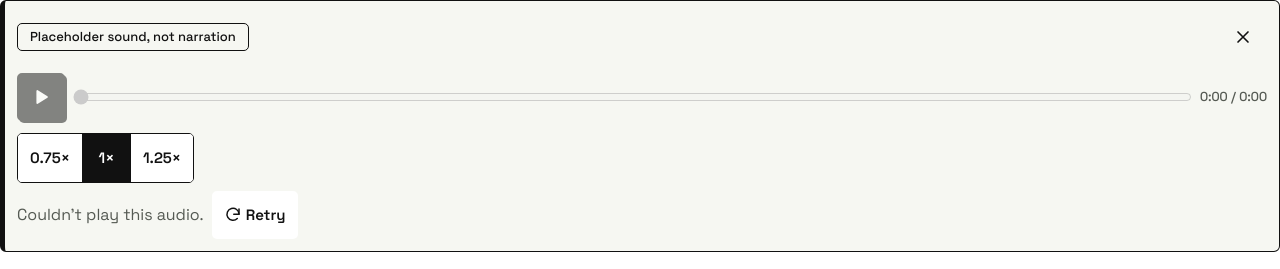
AudioPlayer › says plainly when a clip cannot play, and retries it
Expected: the message shows "Couldn't play this audio.", [17, 204, 204, 225]
Expected: the button named "Play narration" is disabled, [17, 73, 65, 121]
Click the button "Retry": (255, 215) [212, 191, 298, 239]
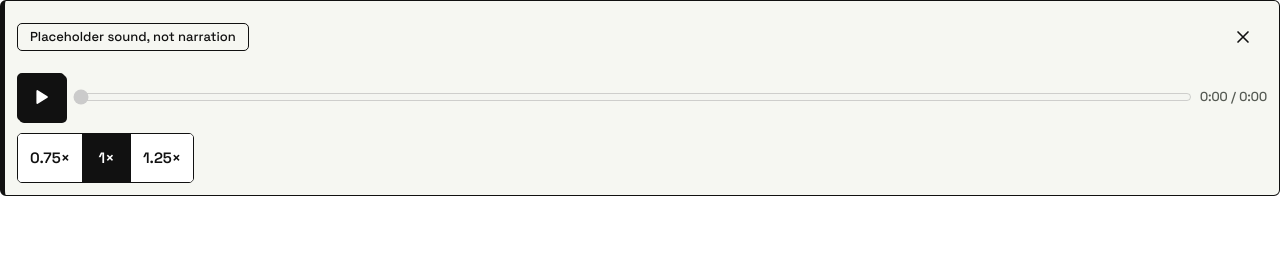
Expected: the message "Couldn't play this audio. Retry" is gone
